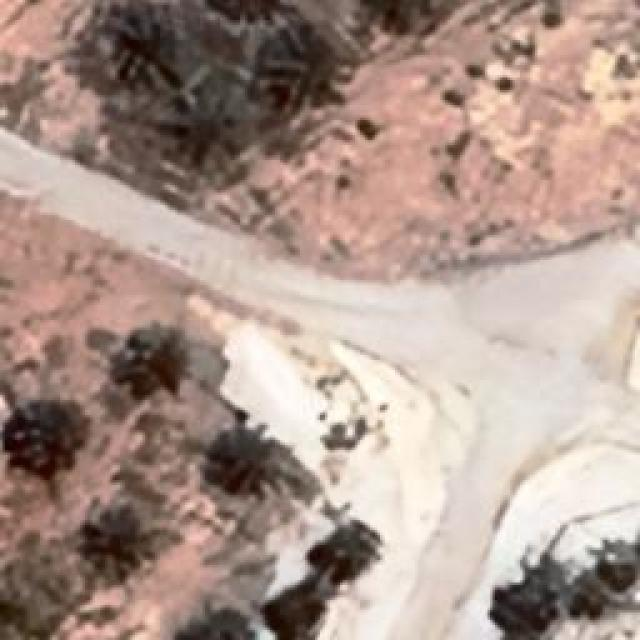PalmTree: (54, 19, 407, 435), (80, 1, 178, 94), (260, 25, 355, 110), (198, 418, 280, 504), (118, 322, 212, 392), (302, 518, 382, 580), (75, 504, 150, 568), (0, 560, 49, 640), (173, 607, 267, 640), (202, 0, 291, 20)
